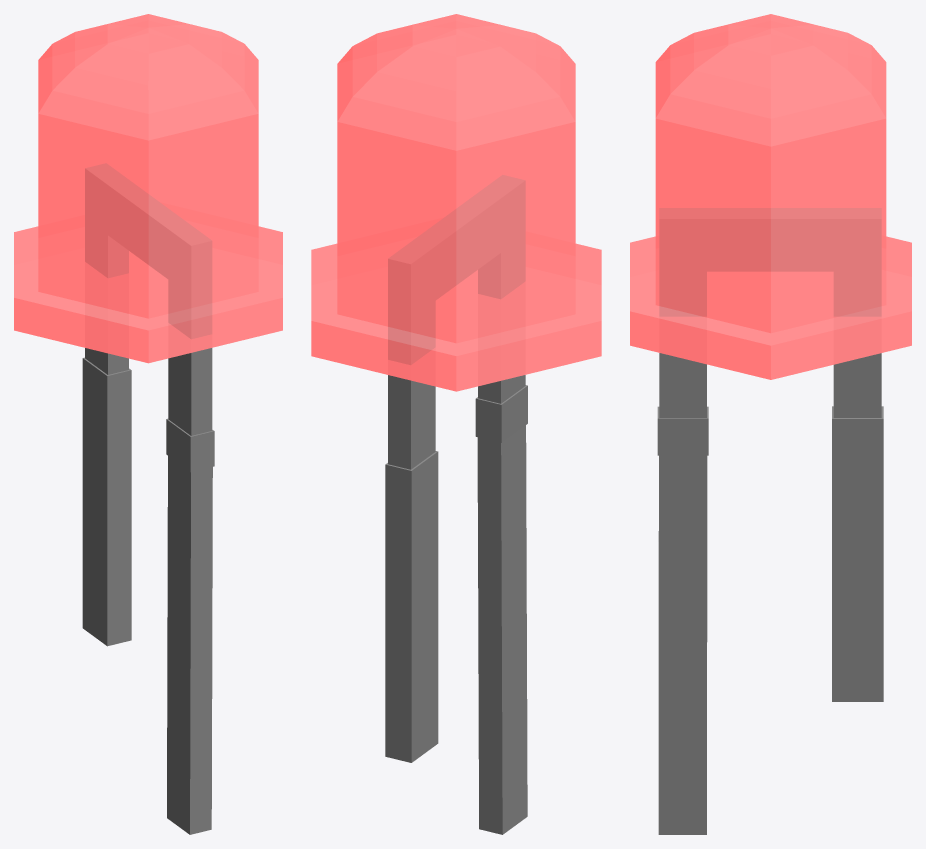
Rendered from LED.fbx.
3 renders of one model, left to right at view 1: azimuth 30°, elevation 25°; view 2: azimuth 150°, elevation 25°; view 3: azimuth 270°, elevation 25°, orthographic. The views are drawn at different scales.
Visible parts, largest first — view 1: Cube.001; view 2: Cube.001; view 3: Cube.001.
Boxes of the visible parts, x1,y1,x2,y2 form: Cube.001: (14, 14, 282, 834); Cube.001: (311, 14, 601, 834); Cube.001: (630, 14, 911, 834).
Size of the model in its own units: 9.57 by 26.02 by 8.29.
